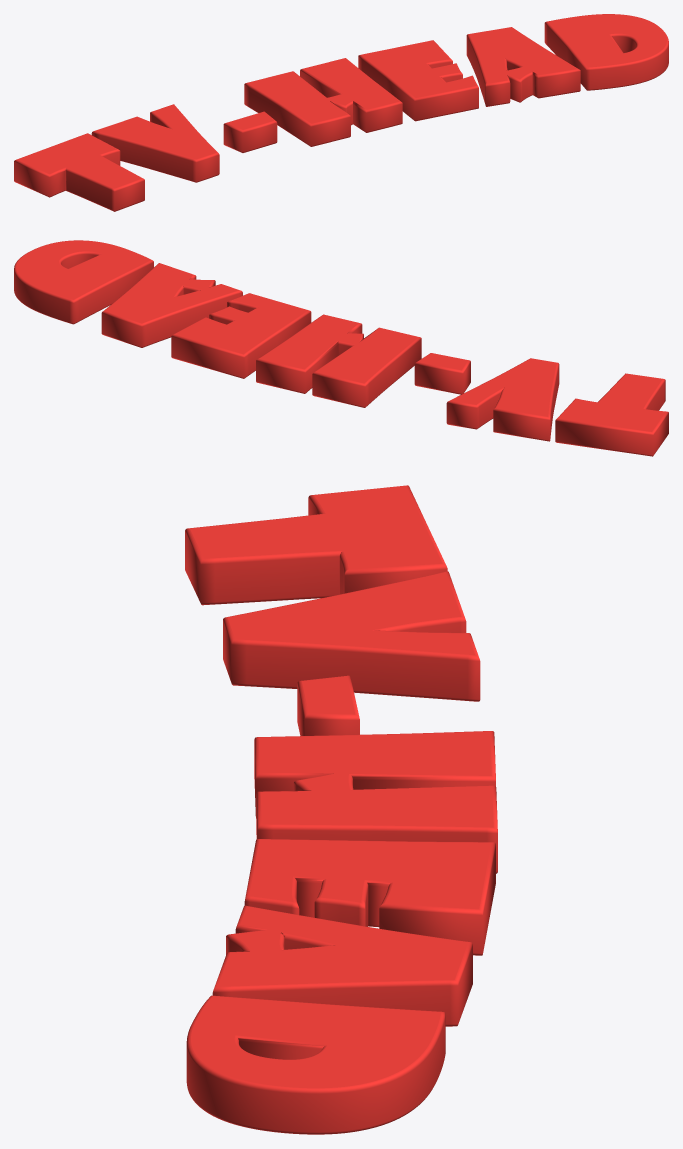
Rendered from title_.fbx.
3 renders of one model, top to bottom at view 1: azimuth 30°, elevation 25°; view 2: azimuth 150°, elevation 25°; view 3: azimuth 270°, elevation 25°, orthographic. The views are drawn at different scales.
Visible parts, largest first — view 1: Tv-Head; view 2: Tv-Head; view 3: Tv-Head.
Part boxes in pixels (bbox=[...]): Tv-Head: bbox=[14, 14, 668, 211]; Tv-Head: bbox=[14, 240, 668, 456]; Tv-Head: bbox=[185, 485, 497, 1134].
Size of the model in its own units: 679 by 24 by 148.
